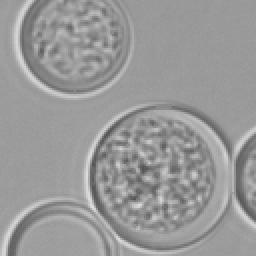picoshell: (86, 102, 228, 254), (12, 0, 132, 98), (0, 196, 122, 254), (228, 124, 256, 228)
